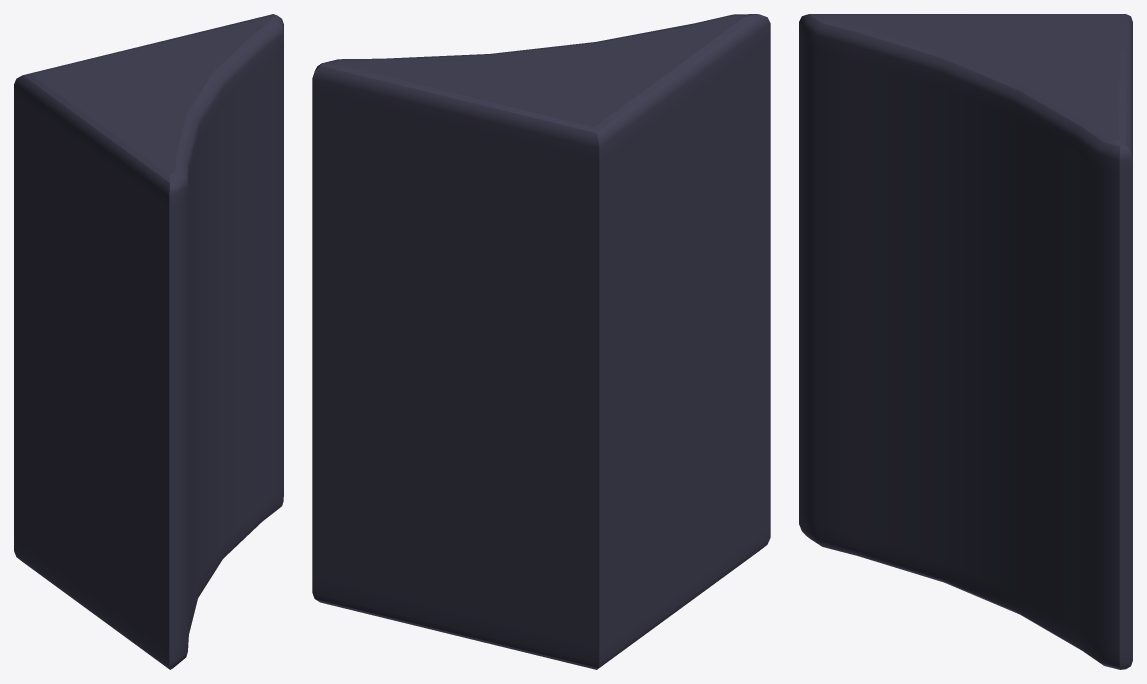
Rendered from curvedHalf.fbx.
3 renders of one model, left to right at view 1: azimuth 30°, elevation 25°; view 2: azimuth 150°, elevation 25°; view 3: azimuth 270°, elevation 25°, orthographic. The views are drawn at different scales.
Visible parts, largest first — view 1: Separator_CurvedHalf; view 2: Separator_CurvedHalf; view 3: Separator_CurvedHalf.
Part boxes in pixels (box(x1,y1,x2,y2)): Separator_CurvedHalf: box(14, 14, 283, 669); Separator_CurvedHalf: box(312, 14, 770, 669); Separator_CurvedHalf: box(799, 14, 1132, 669).
Bounding box in the file's own units: 60.83 × 108 × 62.03.
